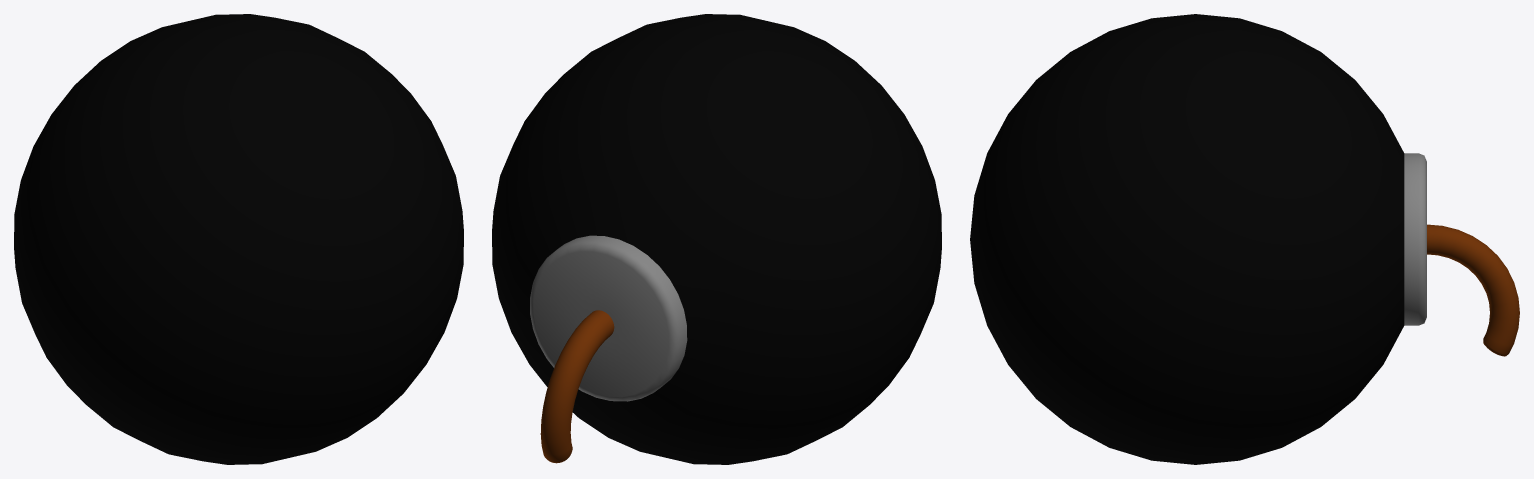
The model's file is Bomb.glb.
3 views of the same model, side by side, from view 1: azimuth 30°, elevation 25°; view 2: azimuth 150°, elevation 25°; view 3: azimuth 270°, elevation 25° (orthographic).
Parts seen in each view (by area): view 1: Bomb.Object; view 2: Bomb.Object; view 3: Bomb.Object.
Part boxes in pixels (box(x1,y1,x2,y2)): Bomb.Object: box(14, 14, 463, 464); Bomb.Object: box(492, 14, 941, 464); Bomb.Object: box(970, 14, 1519, 464).
Size of the model in its own units: 0.3985 by 0.3985 by 0.4873.
